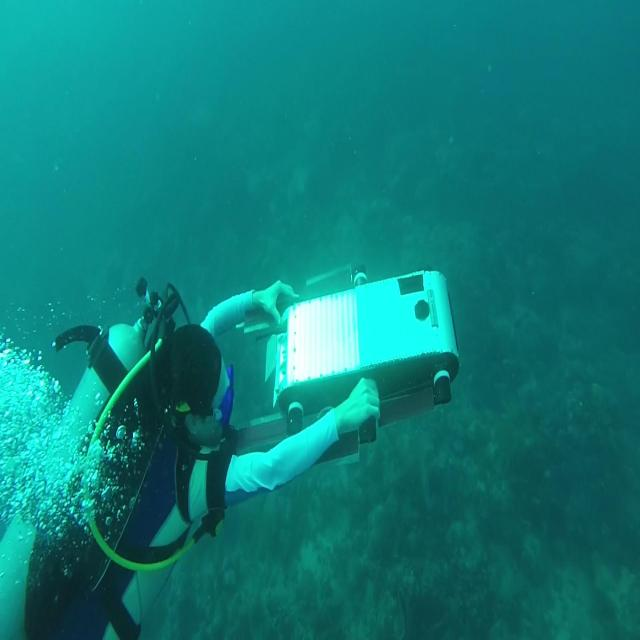human: (22, 276, 381, 638)
